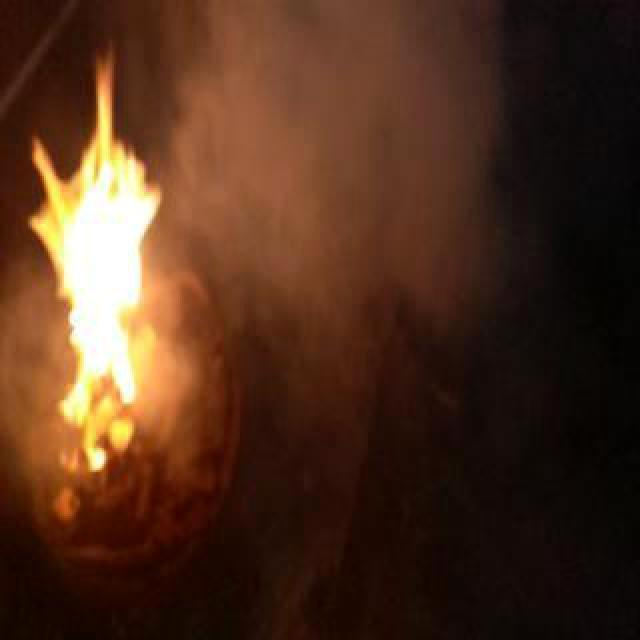Fire: (12, 54, 181, 448)
Smoke: (155, 0, 564, 435)
